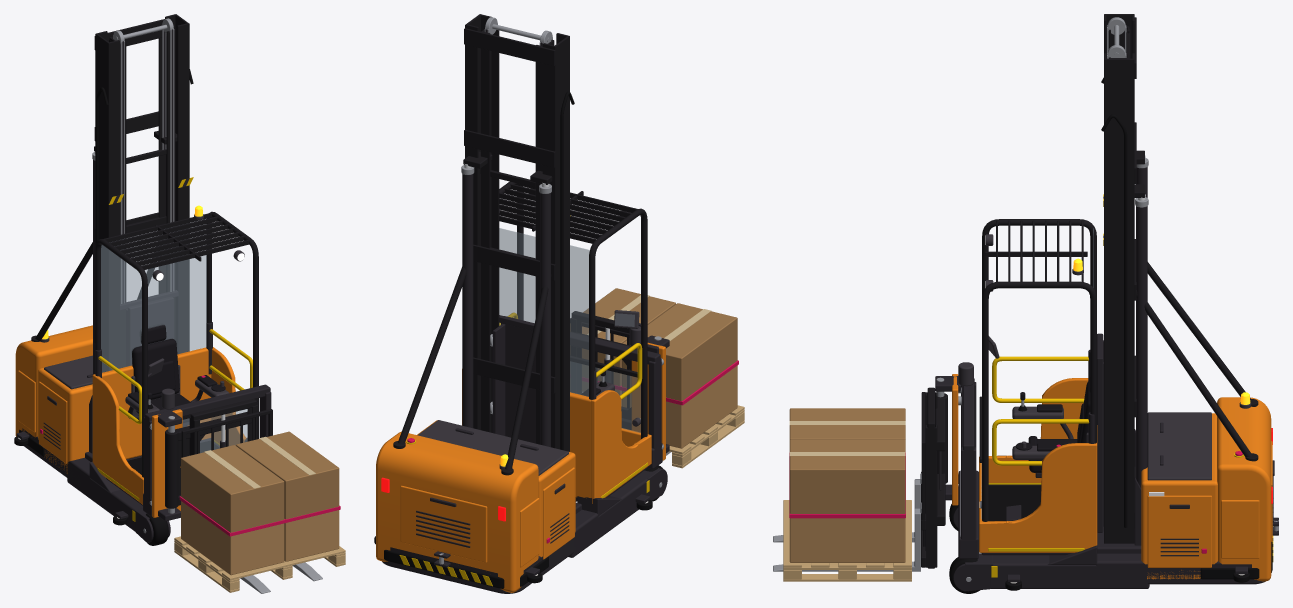
Rendered from vna.glb.
The picture shows the model from 3 angles, left to right: view 1: azimuth 30°, elevation 25°; view 2: azimuth 150°, elevation 25°; view 3: azimuth 270°, elevation 25°; orthographic projection. The views are drawn at different scales.
Visible parts, largest first — view 1: cab_car, slab, pal_top, m_inn, piv_sleeve, seat_base, chain_f_s, chain_f_s.001, br_side, chain_r_s.001, load_w; view 2: slab, cab_car, pal_top, m_inn, piv_sleeve; view 3: slab, cab_car, pal_top, piv_sleeve, m_inn, seat_base.
Part boxes in pixels (x1,y1,x2,y2): cab_car: [92, 205, 271, 521]; slab: [14, 14, 211, 542]; pal_top: [174, 431, 345, 592]; m_inn: [94, 18, 177, 368]; piv_sleeve: [165, 399, 322, 593]; seat_base: [131, 323, 190, 426]; chain_f_s: [120, 41, 124, 303]; chain_f_s.001: [170, 29, 174, 291]; br_side: [181, 409, 272, 457]; chain_r_s.001: [162, 24, 166, 149]; load_w: [146, 513, 168, 545]; slab: [374, 14, 667, 593]; cab_car: [462, 181, 669, 503]; pal_top: [570, 288, 744, 468]; m_inn: [463, 17, 554, 444]; piv_sleeve: [570, 311, 670, 455]; slab: [953, 14, 1278, 591]; cab_car: [935, 219, 1103, 558]; pal_top: [783, 408, 911, 581]; piv_sleeve: [773, 387, 947, 571]; m_inn: [1107, 17, 1145, 200]; seat_base: [1028, 377, 1090, 477].
Bounding box in the file's own units: 1.54 × 4.54 × 3.93.
